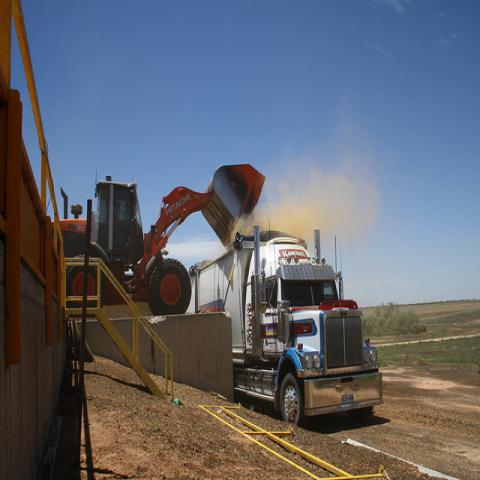truck: (186, 226, 384, 427), (57, 162, 265, 315)
